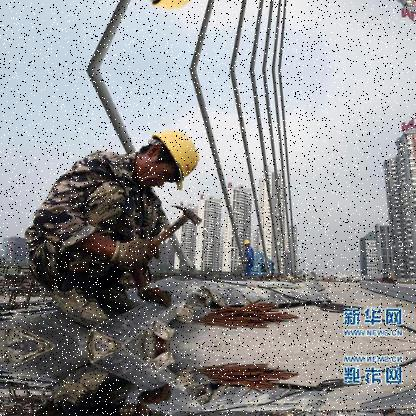Helmet: (124, 118, 210, 204), (144, 0, 206, 24), (238, 231, 256, 250)
